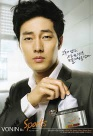male: (9, 4, 76, 88)
